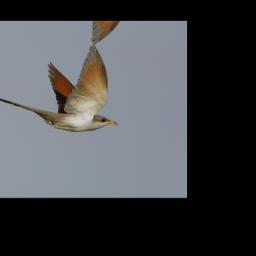Cuckoo: (0, 25, 133, 141)
